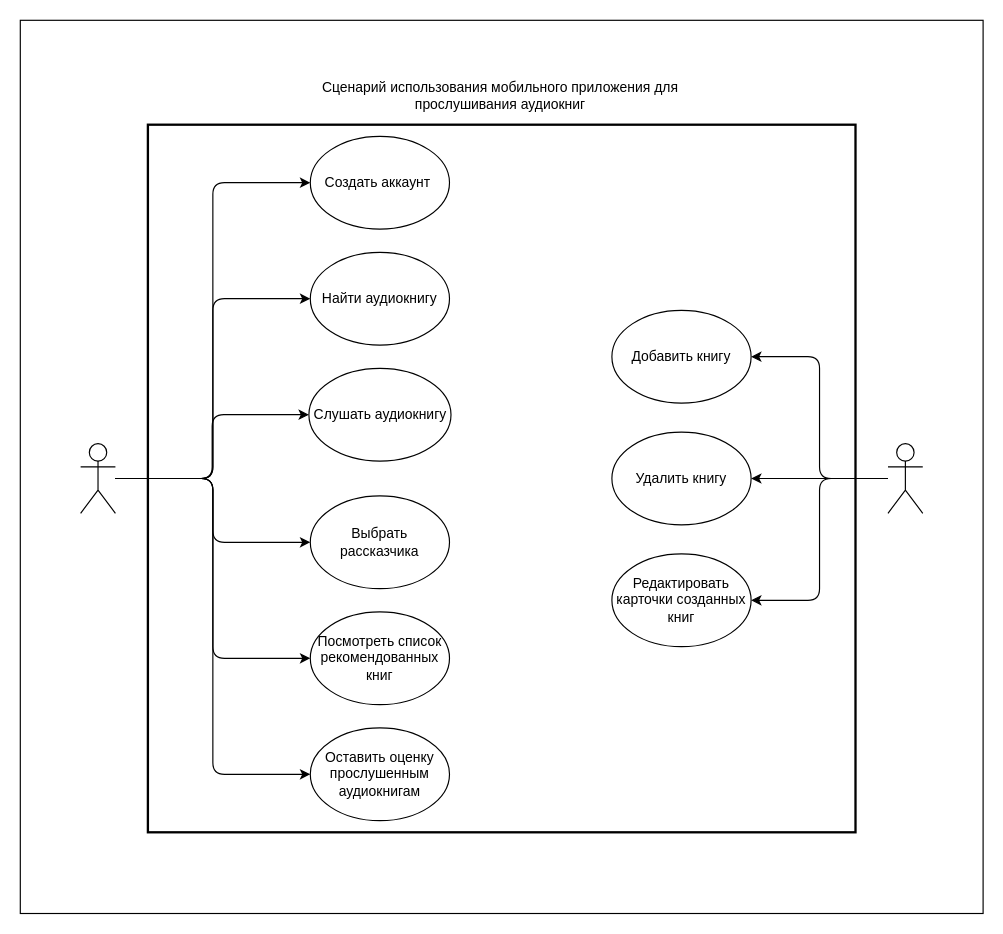
The diagram is 1003 pixels wide and 934 high, and some of its shapes have lost their labels. The centre of each missing label's shape, as x and y in pixels:
Администратор: (x=905, y=478)
Пользователь: (x=97, y=478)
